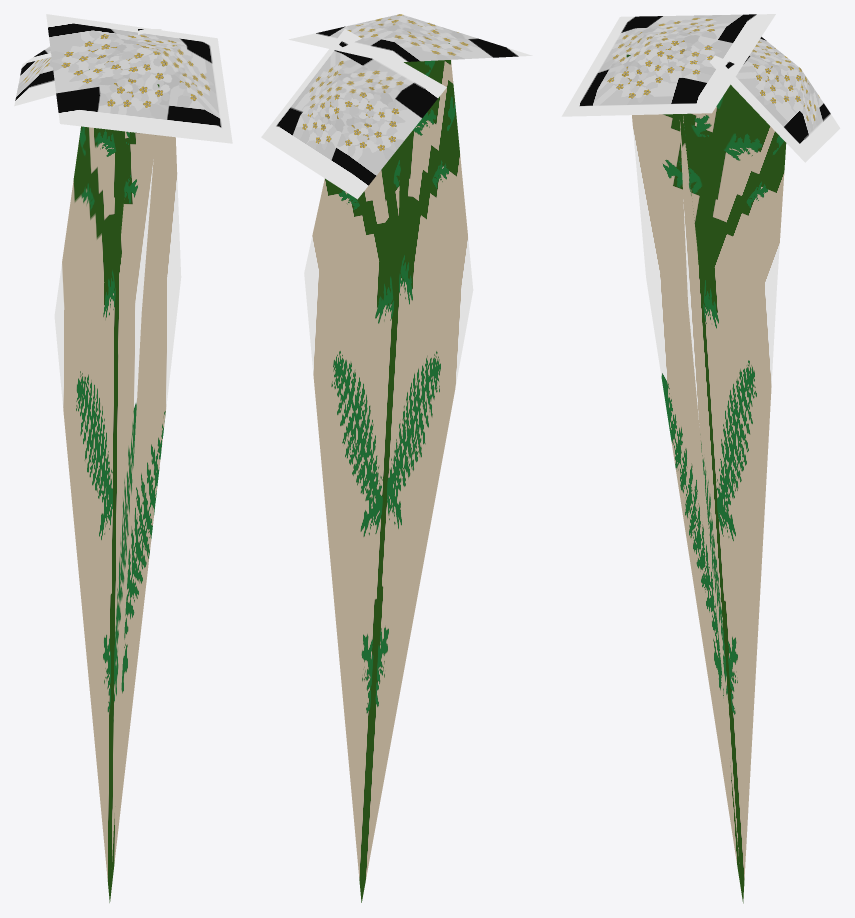
File: PT_Yarrow_02.fbx
The picture shows the model from 3 angles, left to right: view 1: azimuth 30°, elevation 25°; view 2: azimuth 150°, elevation 25°; view 3: azimuth 270°, elevation 25°; orthographic projection. The views are drawn at different scales.
Visible parts, largest first — view 1: PT_Yarrow_02_LOD0; view 2: PT_Yarrow_02_LOD0; view 3: PT_Yarrow_02_LOD0.
Part boxes in pixels (x1,y1,x2,y2): PT_Yarrow_02_LOD0: (14,14,232,902); PT_Yarrow_02_LOD0: (261,14,532,902); PT_Yarrow_02_LOD0: (561,14,840,903).
Size of what is drawn, in the model's own units: 24.74 by 103 by 29.89.
